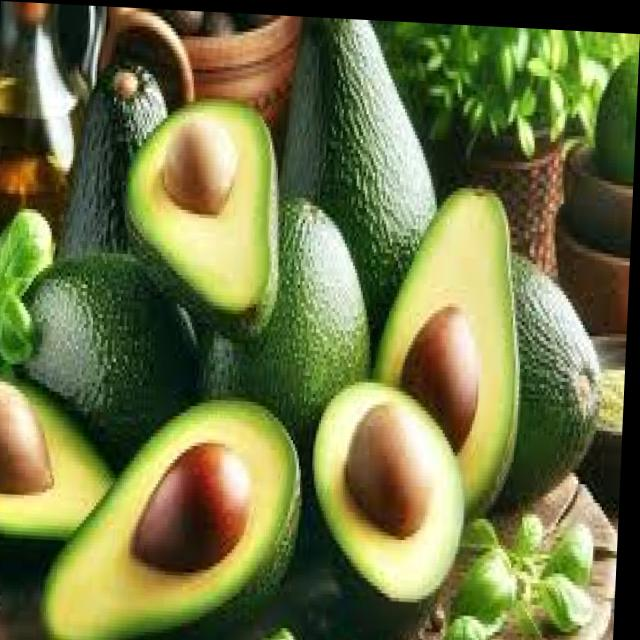Bo: (41, 382, 312, 640), (367, 175, 523, 517), (277, 13, 442, 305), (122, 93, 280, 348), (312, 369, 472, 609), (12, 252, 193, 423), (58, 59, 170, 260)
